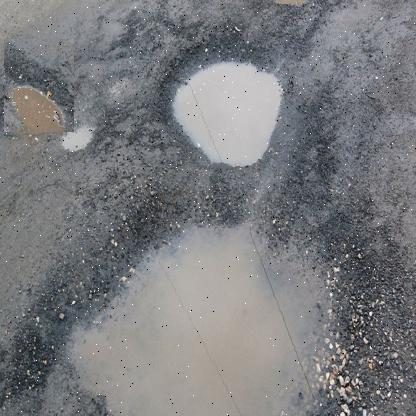pothole_water: (29, 195, 380, 412), (147, 20, 301, 189), (3, 39, 74, 133)
